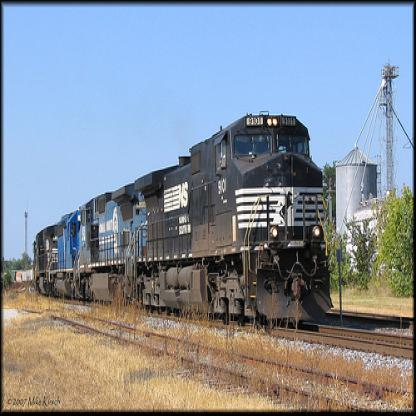train: (34, 111, 332, 327)
